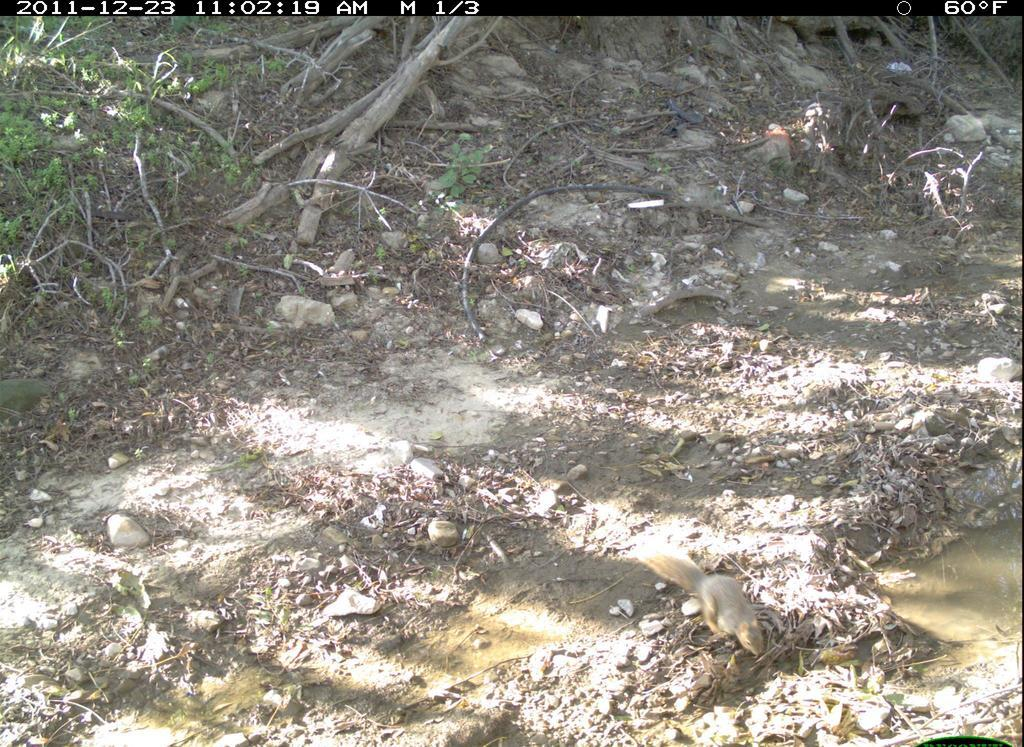squirrel: (591, 529, 802, 675)
